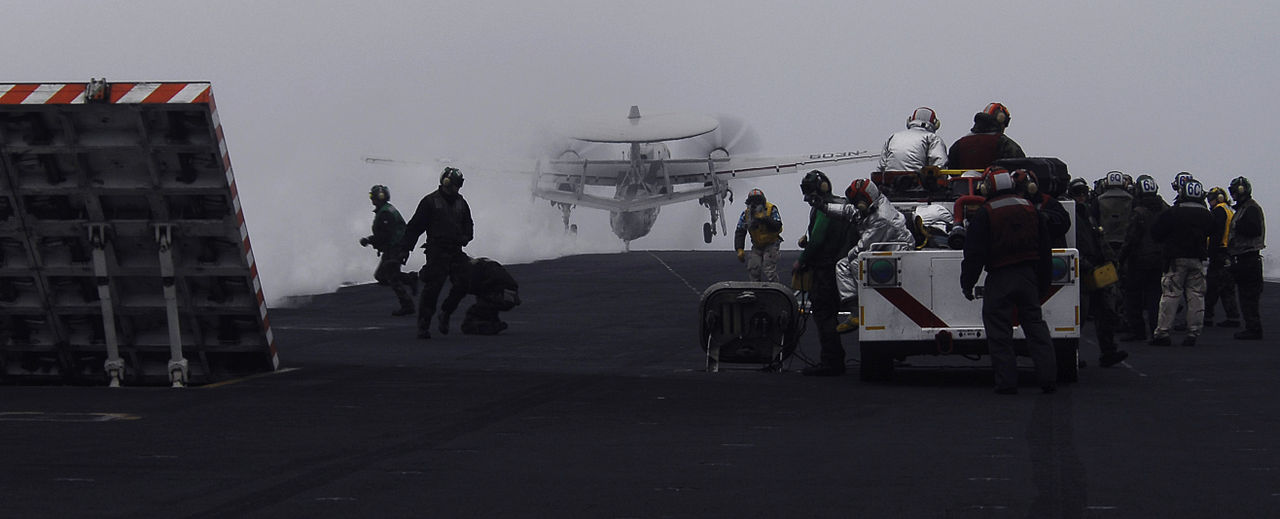E2: (360, 105, 883, 252)
